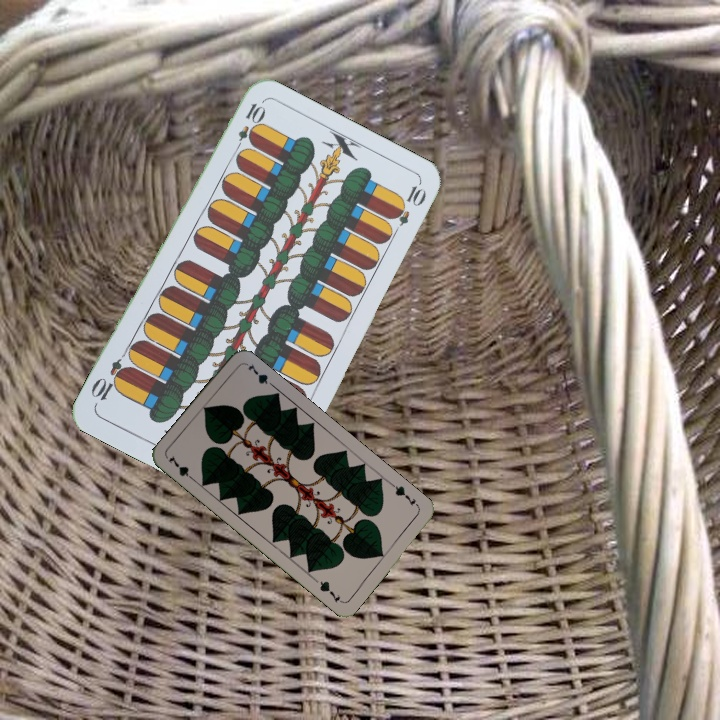E10: (230, 99, 266, 156)
G7: (164, 451, 198, 484), (388, 480, 422, 510)
